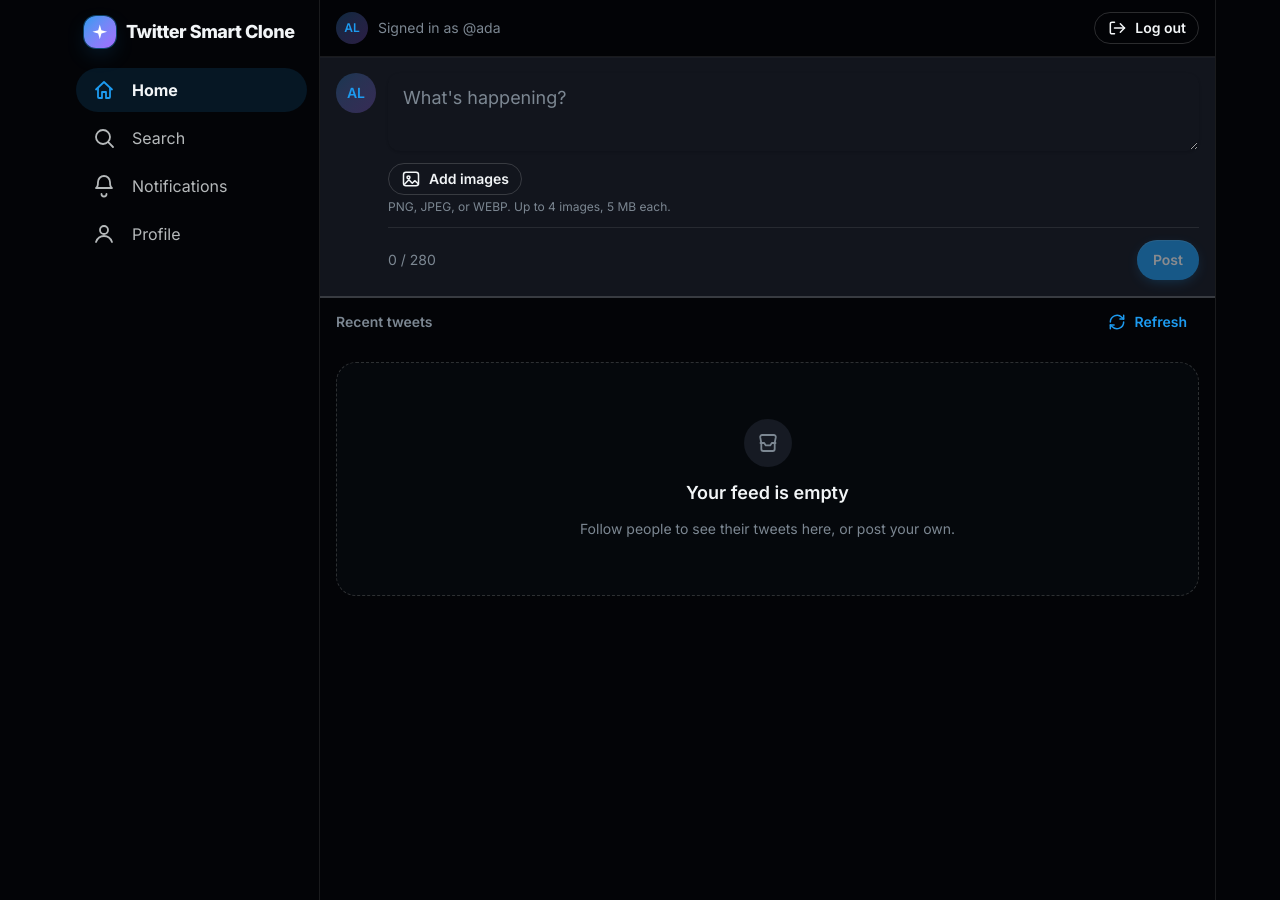
Authentication end-to-end flows › logs out, clears auth state, and redirects to login
The image size is (1280, 900).
Expected: the text "Signed in as @ada" is shown, [378,18,500,38]
Click the button "Log out" at (1147, 28), box [1094,12,1199,44]
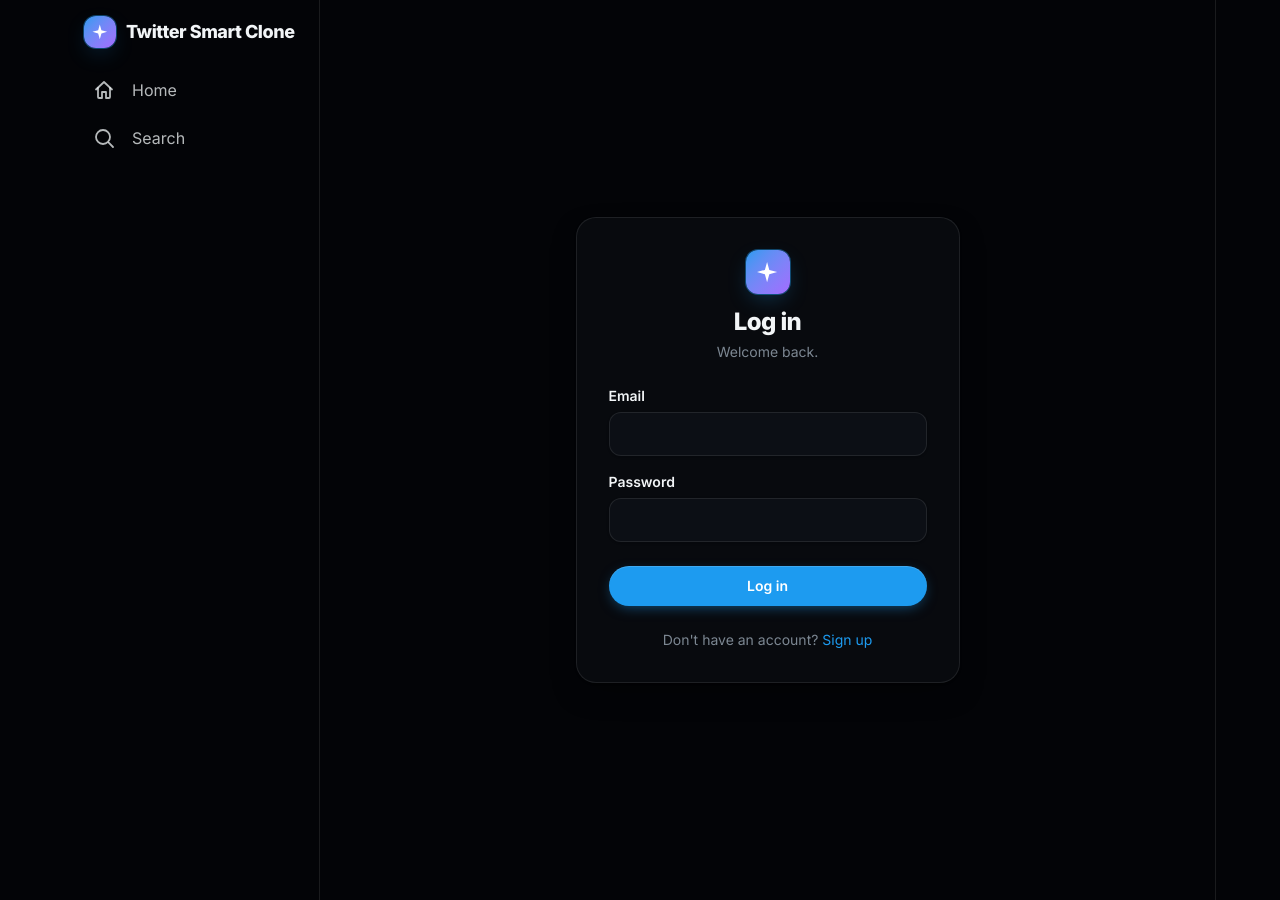
Expected: the heading "Log in" is shown, [734,307,801,336]
